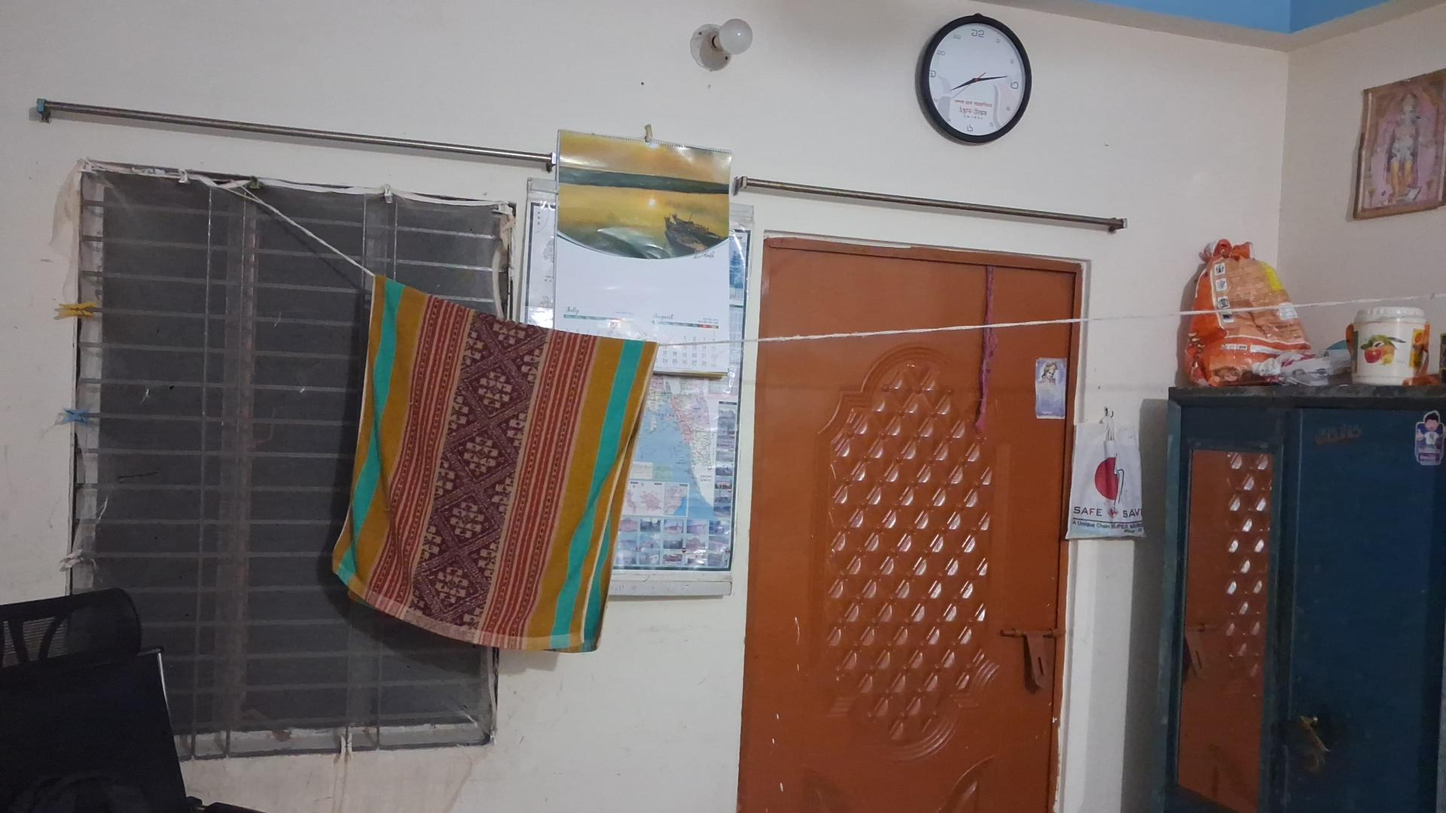Bag: (1176, 241, 1325, 380), (1068, 405, 1151, 543)
Clock: (915, 14, 1032, 145)
Door: (746, 221, 1076, 813)
Jar: (1350, 308, 1432, 388)
Light: (700, 16, 766, 62)
Photo: (1346, 77, 1445, 215), (1028, 347, 1068, 420), (1415, 411, 1445, 461)
Towel: (326, 272, 661, 659)
Window: (64, 151, 510, 754)
